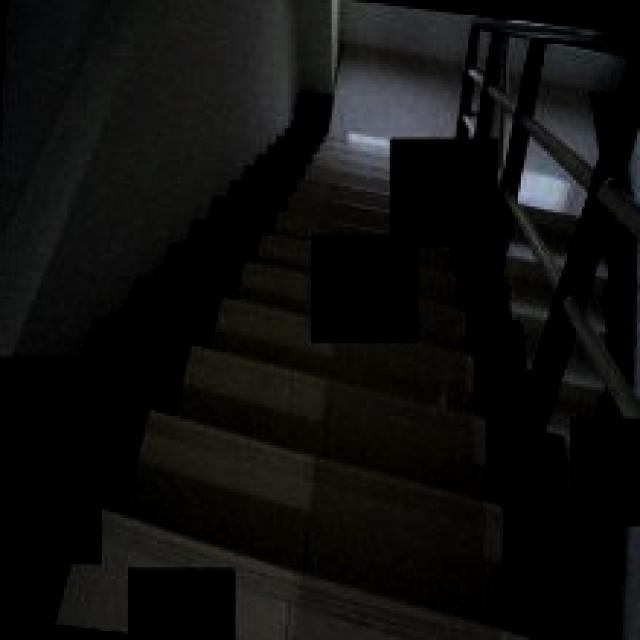downstair: (278, 359, 528, 640)
